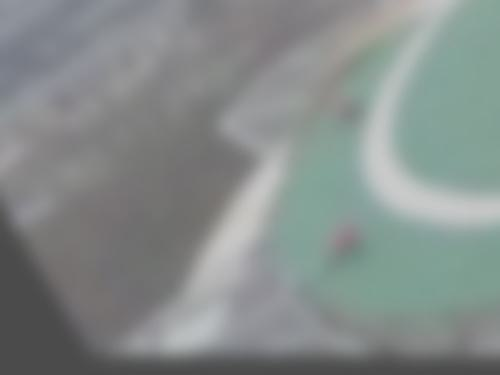Apron: (359, 21, 500, 224)
